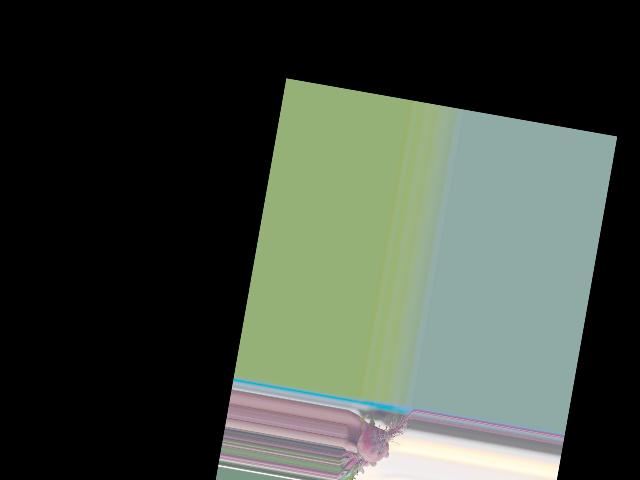beet: (335, 399, 414, 480)
